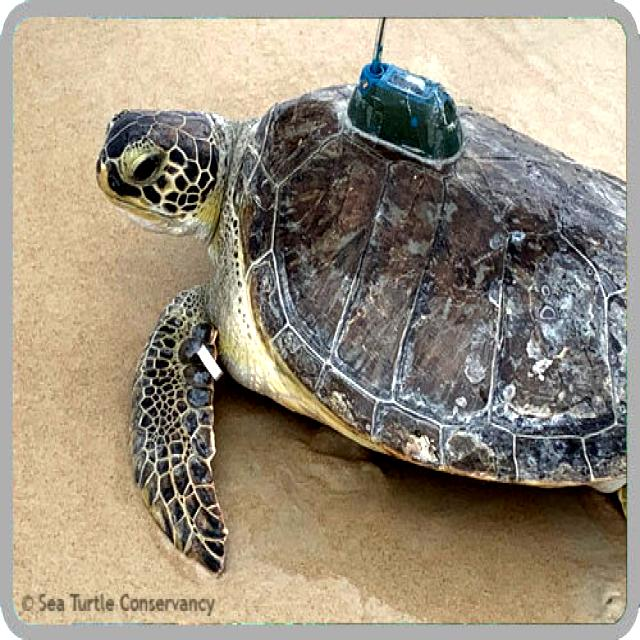Sea turtle: (89, 60, 640, 592)
